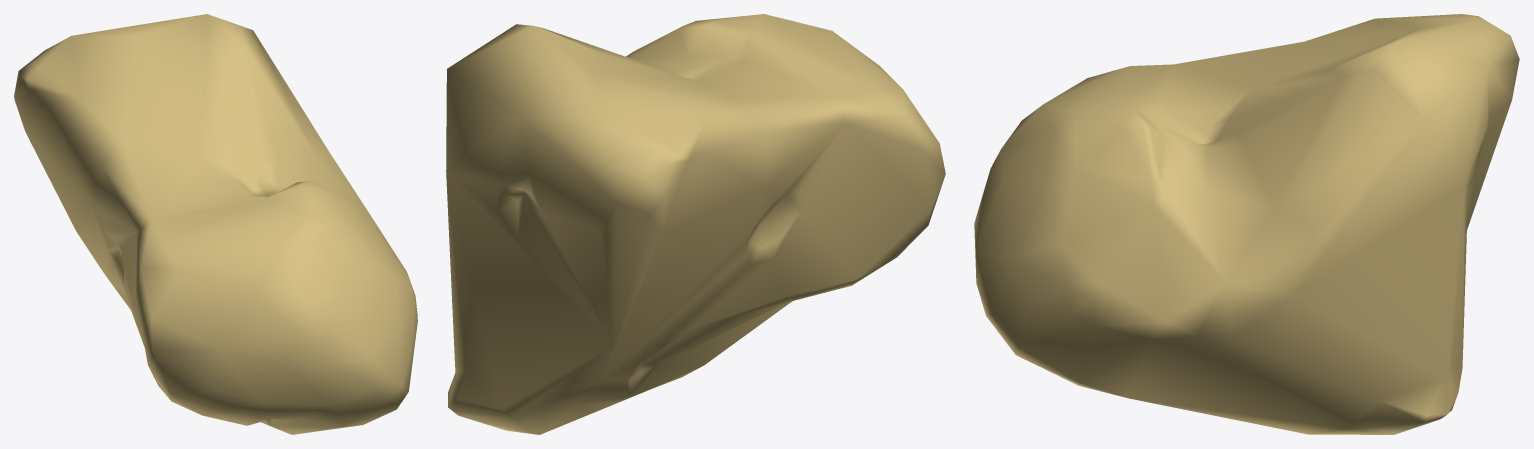
3 renders of one model, left to right at view 1: azimuth 30°, elevation 25°; view 2: azimuth 150°, elevation 25°; view 3: azimuth 270°, elevation 25°, orthographic. The views are drawn at different scales.
Parts seen in each view (by area): view 1: 左侧头状骨; view 2: 左侧头状骨; view 3: 左侧头状骨.
Boxes of the visible parts, x1,y1,x2,y2 form: 左侧头状骨: (14, 14, 417, 434); 左侧头状骨: (446, 14, 945, 434); 左侧头状骨: (974, 14, 1519, 434).
Bounding box in the file's own units: 0.0245 × 0.0265 × 0.0345.
